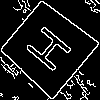H: (23, 23, 82, 81)
